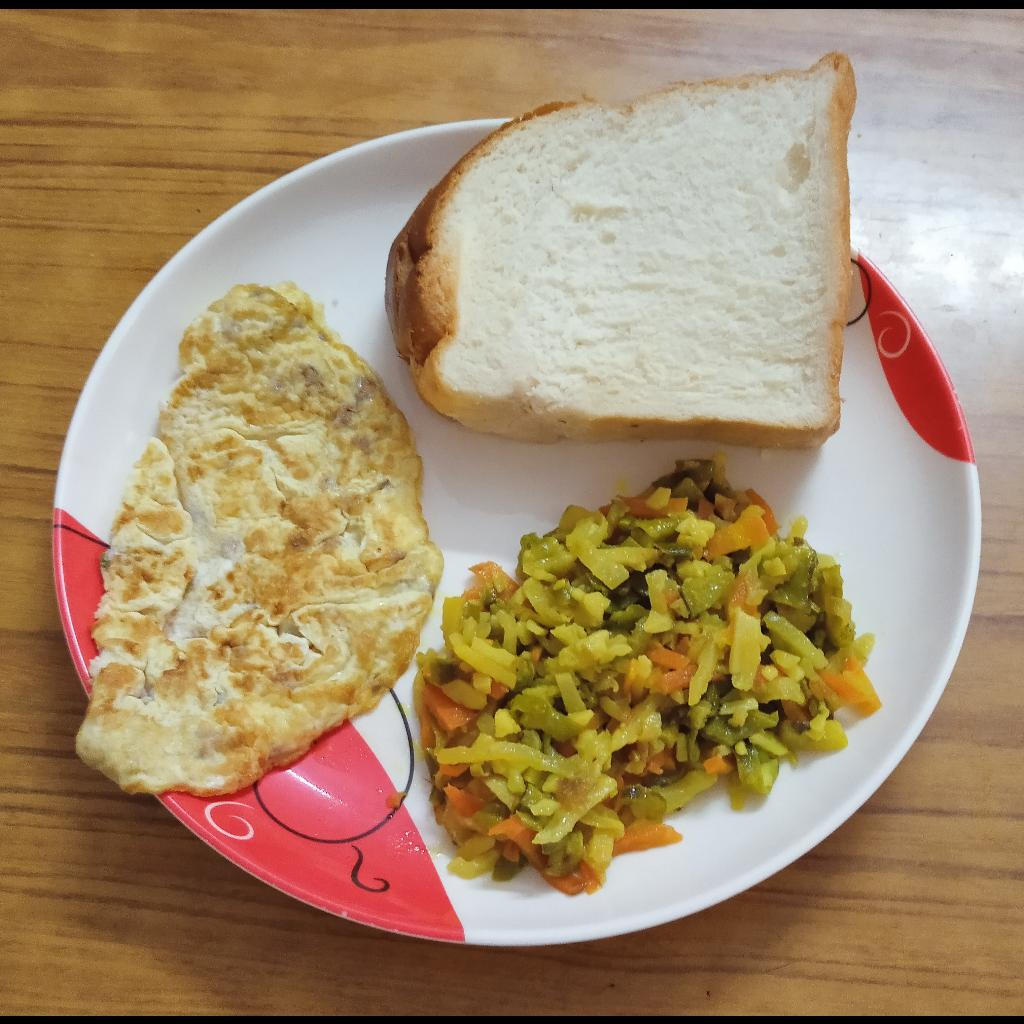bread: (384, 43, 856, 451)
egg-poached: (72, 276, 444, 796)
vegetable: (412, 454, 879, 895)
